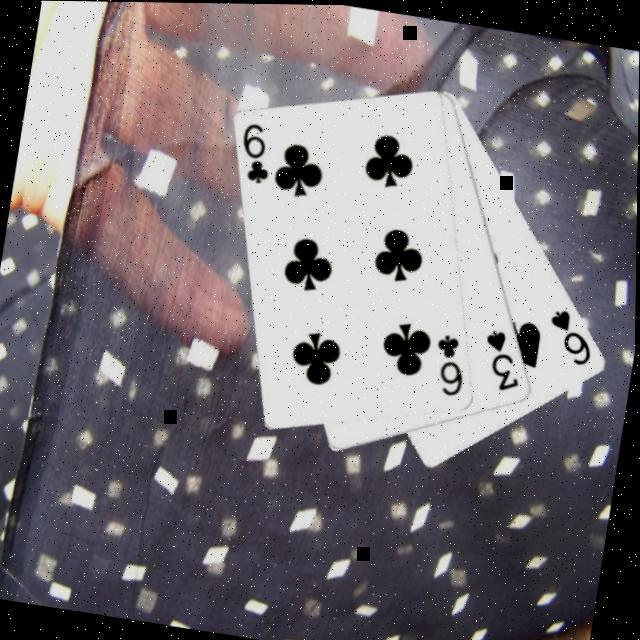3S: (476, 324, 530, 395)
6C: (232, 116, 280, 188), (427, 328, 474, 400)
6S: (541, 301, 602, 368)
